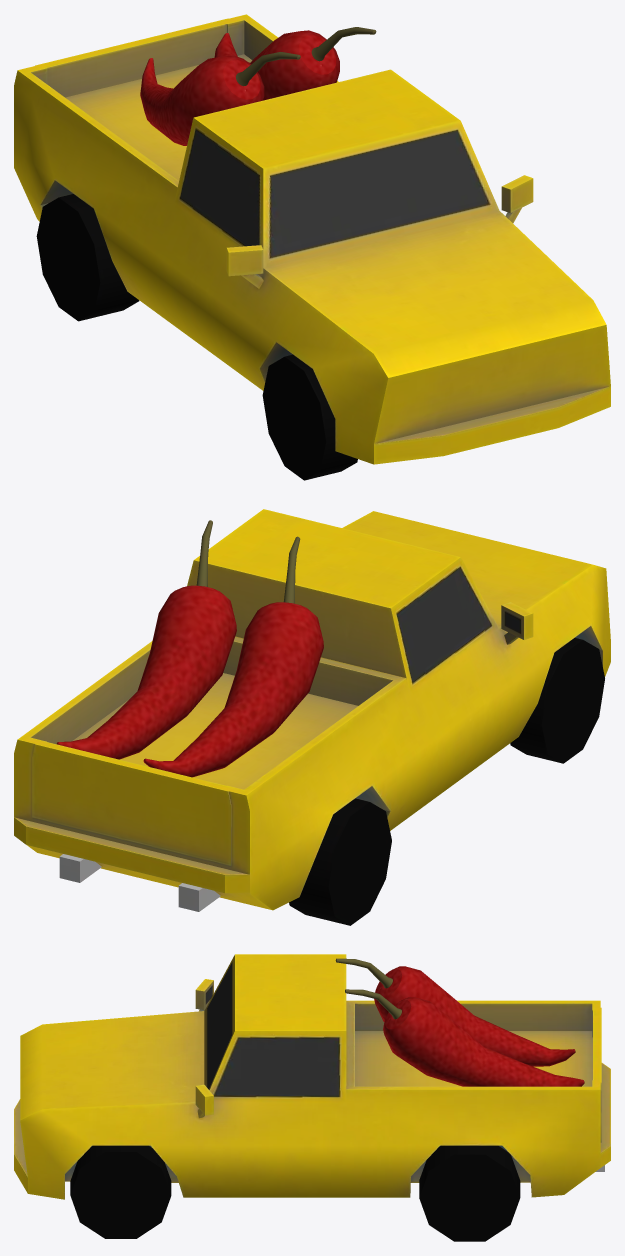
File: Gadi01-transformed.glb
3 renders of one model, top to bottom at view 1: azimuth 30°, elevation 25°; view 2: azimuth 150°, elevation 25°; view 3: azimuth 270°, elevation 25°, orthographic. The views are drawn at different scales.
Parts seen in each view (by area): view 1: GADI_02; view 2: GADI_02; view 3: GADI_02.
Part boxes in pixels (x1,y1,x2,y2): GADI_02: [14, 14, 610, 480]; GADI_02: [14, 509, 610, 925]; GADI_02: [14, 954, 610, 1241].
Bounding box in the file's own units: 1.12 × 1 × 2.39.
Materials: 1 (1 with a texture image).
